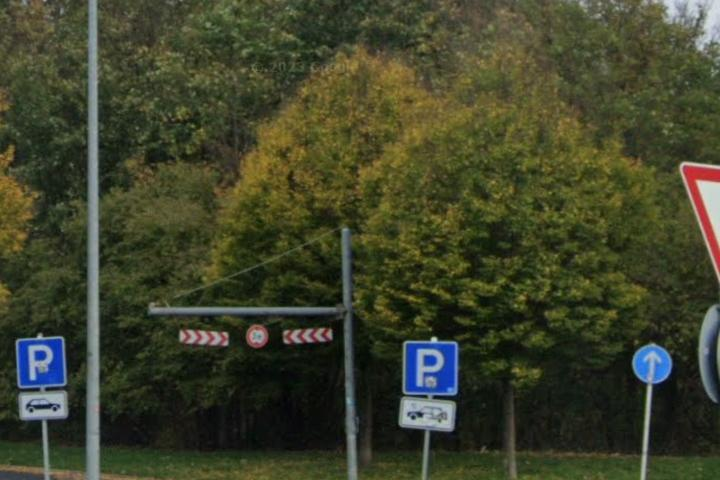traffic_sign: (403, 341, 457, 394), (17, 338, 67, 389), (632, 344, 672, 385)
